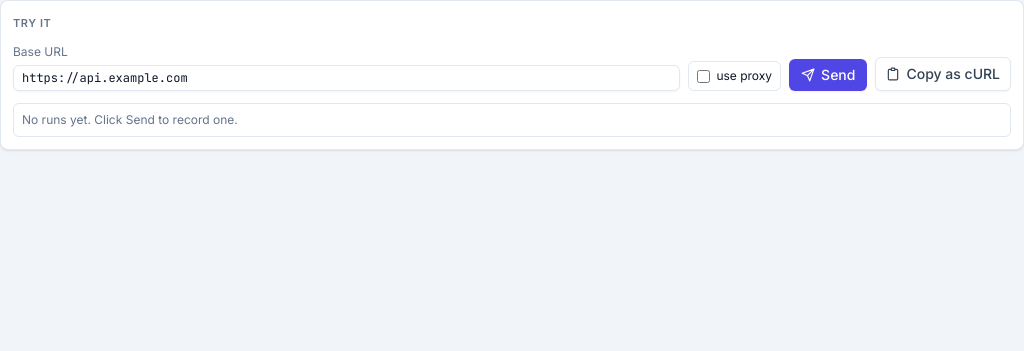
Test: shows a history entry in the drawer after Send
Click the button "Send".
click(828, 75)  # box x1=789 y1=59 x2=867 y2=91
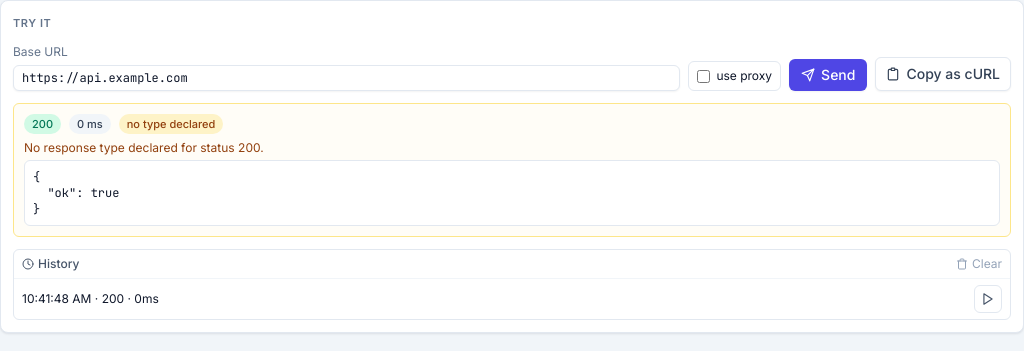
Result: the text "10:41:48 AM" is shown at x1=22 y1=291 x2=91 y2=306
